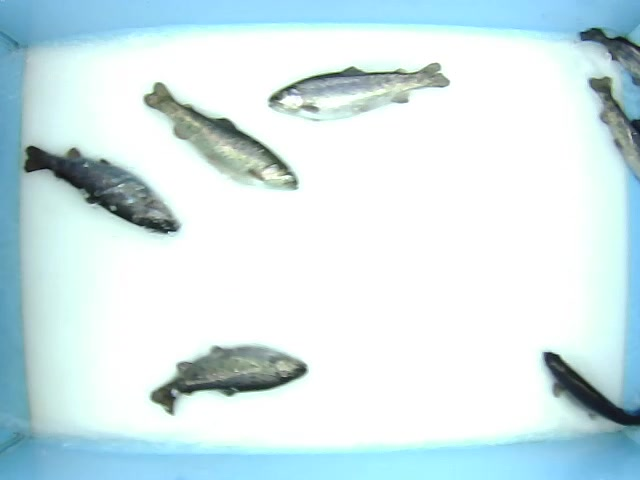fish: (143, 81, 321, 209), (110, 325, 325, 418), (17, 133, 181, 245), (267, 52, 480, 131)
